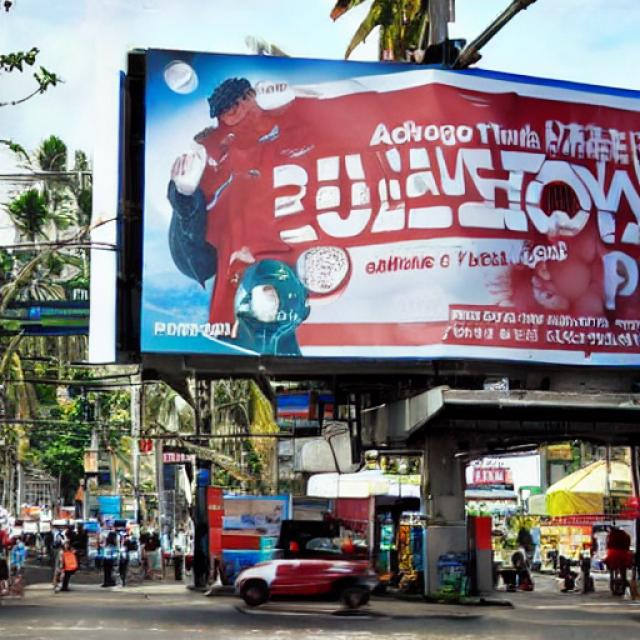Billboard: (127, 49, 640, 372)
